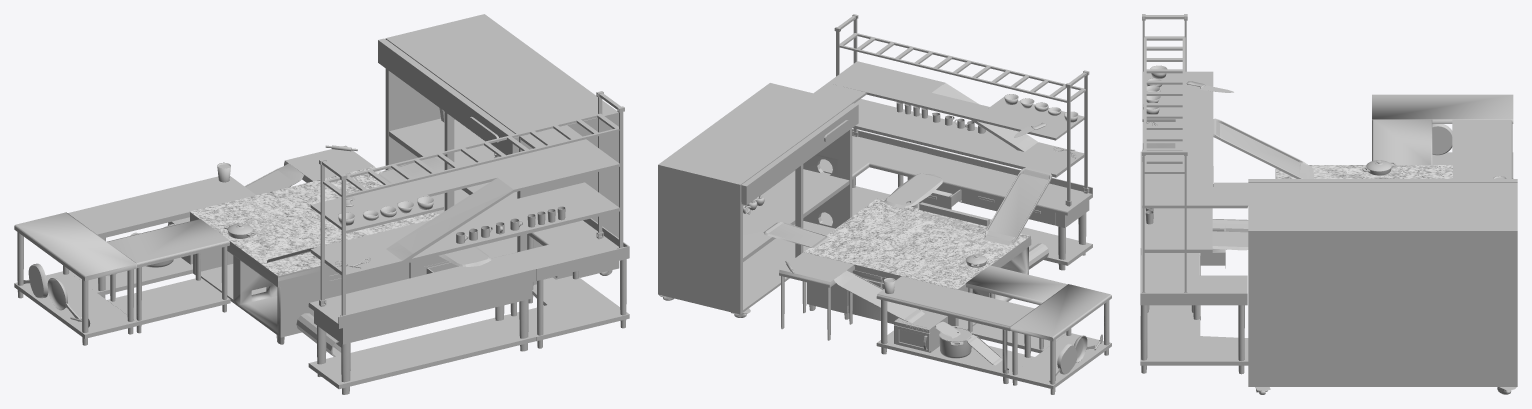
Rendered from kitchen.obj.
The picture shows the model from 3 angles, left to right: view 1: azimuth 30°, elevation 25°; view 2: azimuth 150°, elevation 25°; view 3: azimuth 270°, elevation 25°; orthographic projection. The views are drawn at different scales.
Size of the model in its own units: 561 by 249 by 384.
